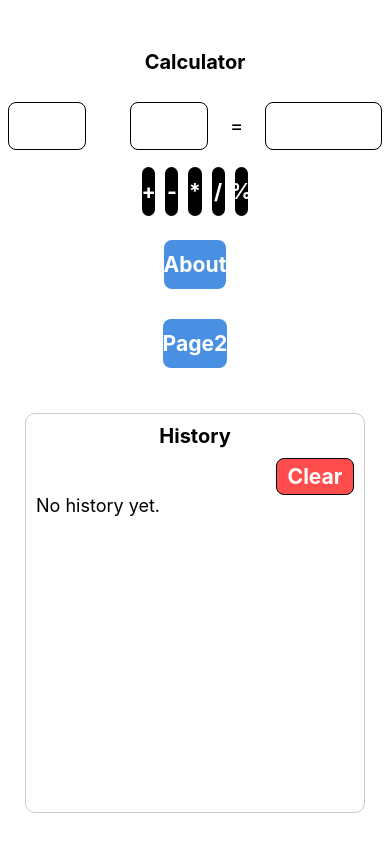
ทดสอบหน้าจอ App หลัก › ควรเปิดหน้าต่าง About ได้เมื่อกดปุ่ม About
ค้นหาปุ่ม About แล้วกด
Click the text "About" at [195, 264], box [164,252,226,277]
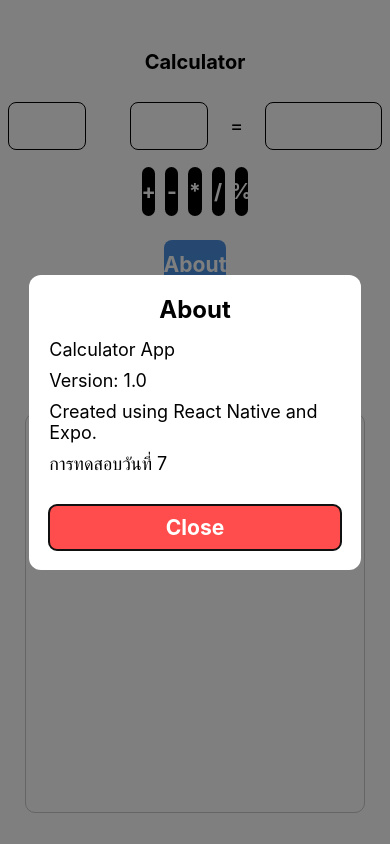
Check: the text "Version: 1.0" is shown, box [49,370,147,390]
Check: the text "Created using React Native and Expo." is shown, box [49,400,341,442]
